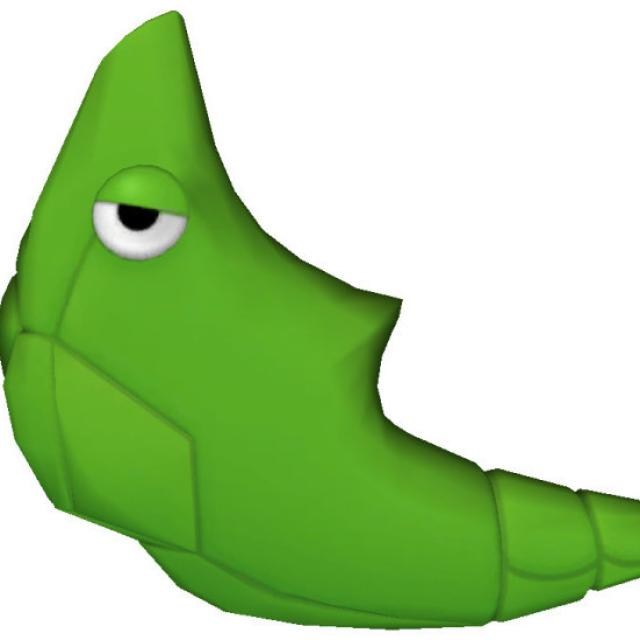Metapod: (0, 0, 638, 639)
